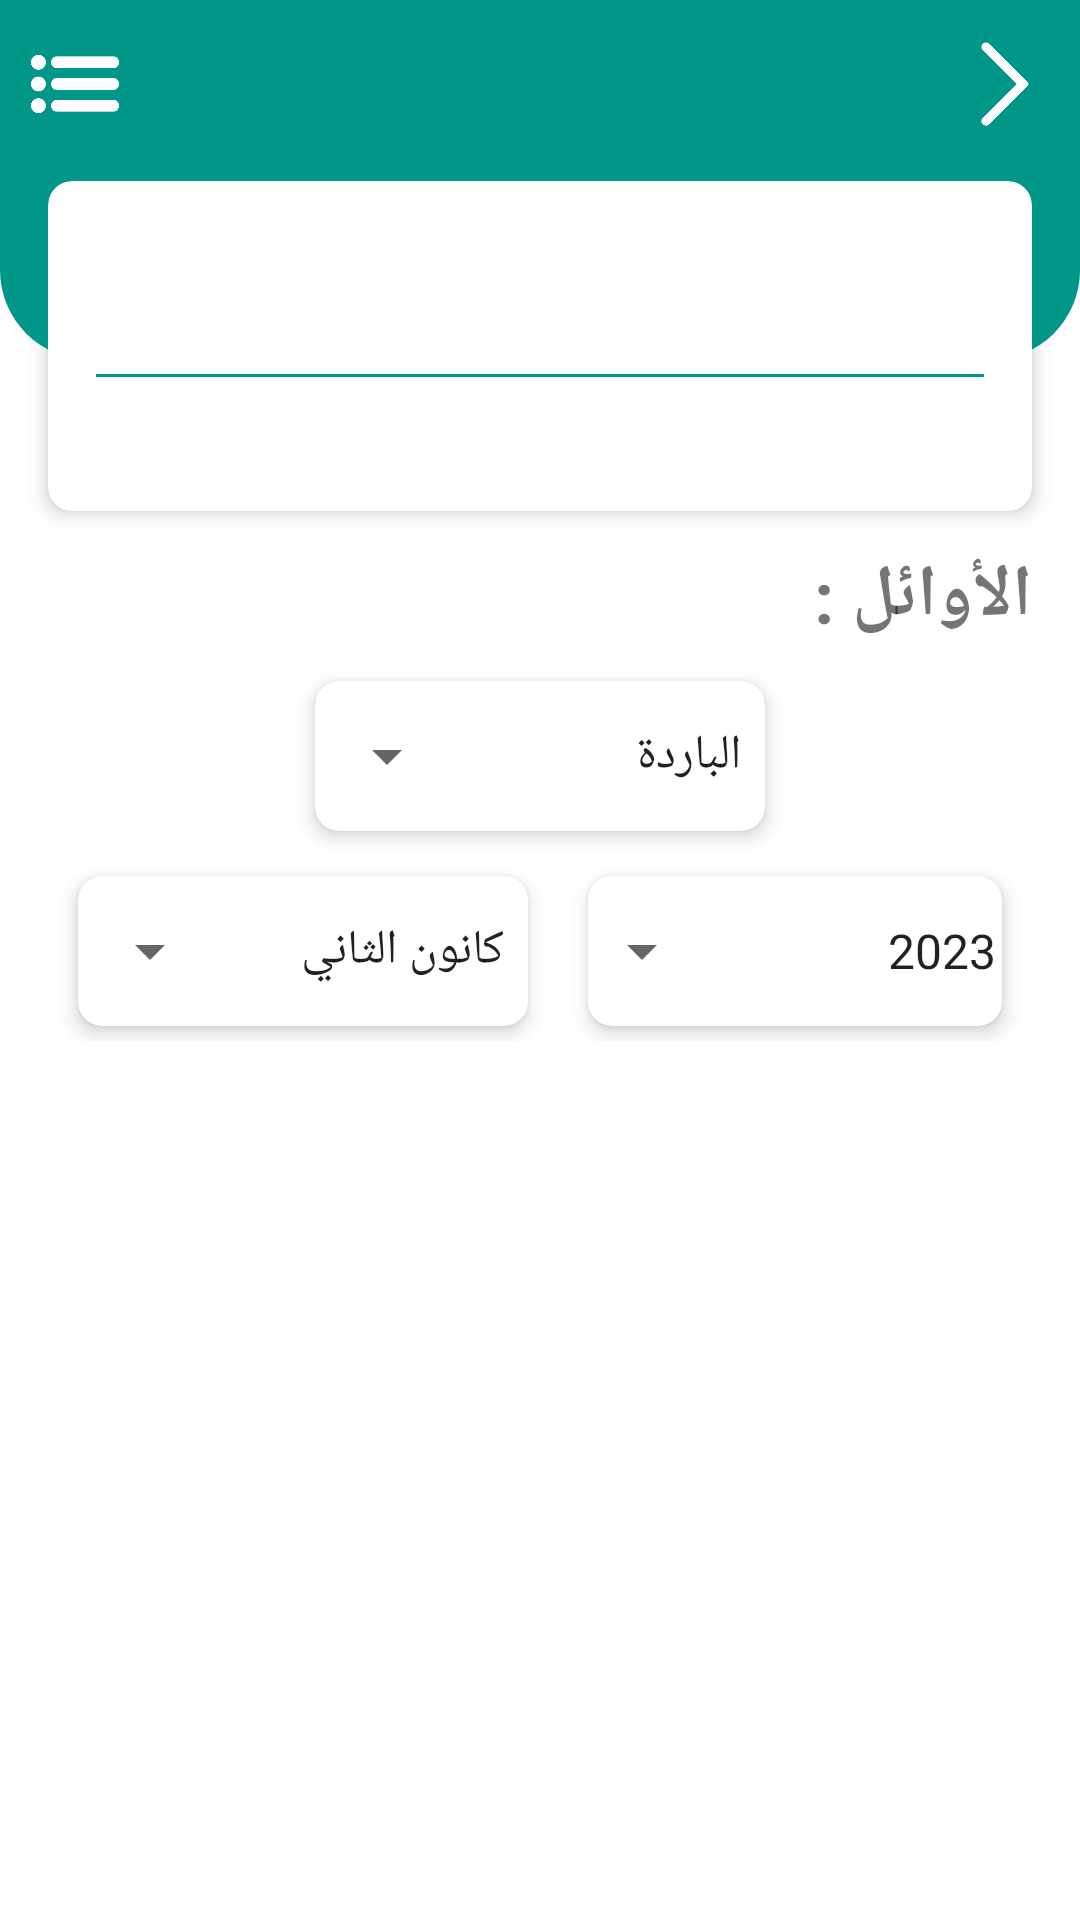

Screen size 1080 x 1920. Icon name, then its center in pixels as point (x, y):
iconmenu: point (75, 84)
